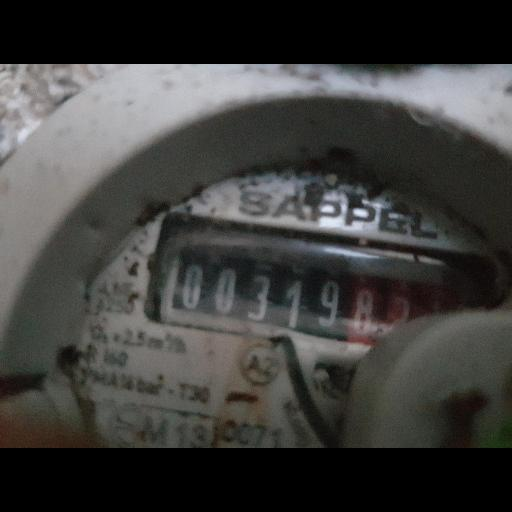0: (203, 253, 249, 324), (170, 248, 213, 318)
1: (273, 262, 314, 335)
2: (383, 278, 422, 342)
3: (238, 257, 282, 329)
8: (342, 272, 390, 347)
9: (306, 265, 351, 340)
border_water_meter_number: (143, 210, 500, 370)
